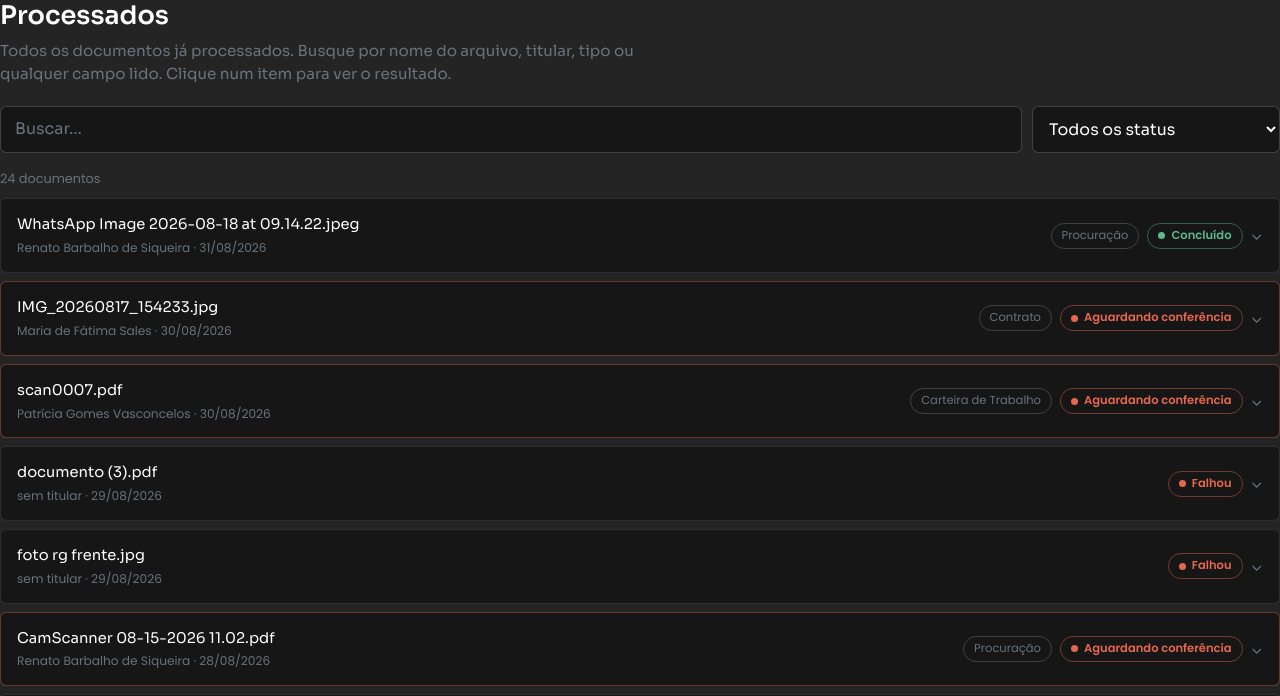
Test case: a busca filtra a lista
Expected: the text "24 documentos" is shown, [0,170,100,187]
Type "holerite" into the search field named "Buscar documentos" at (511, 129), box [0,106,1022,153]
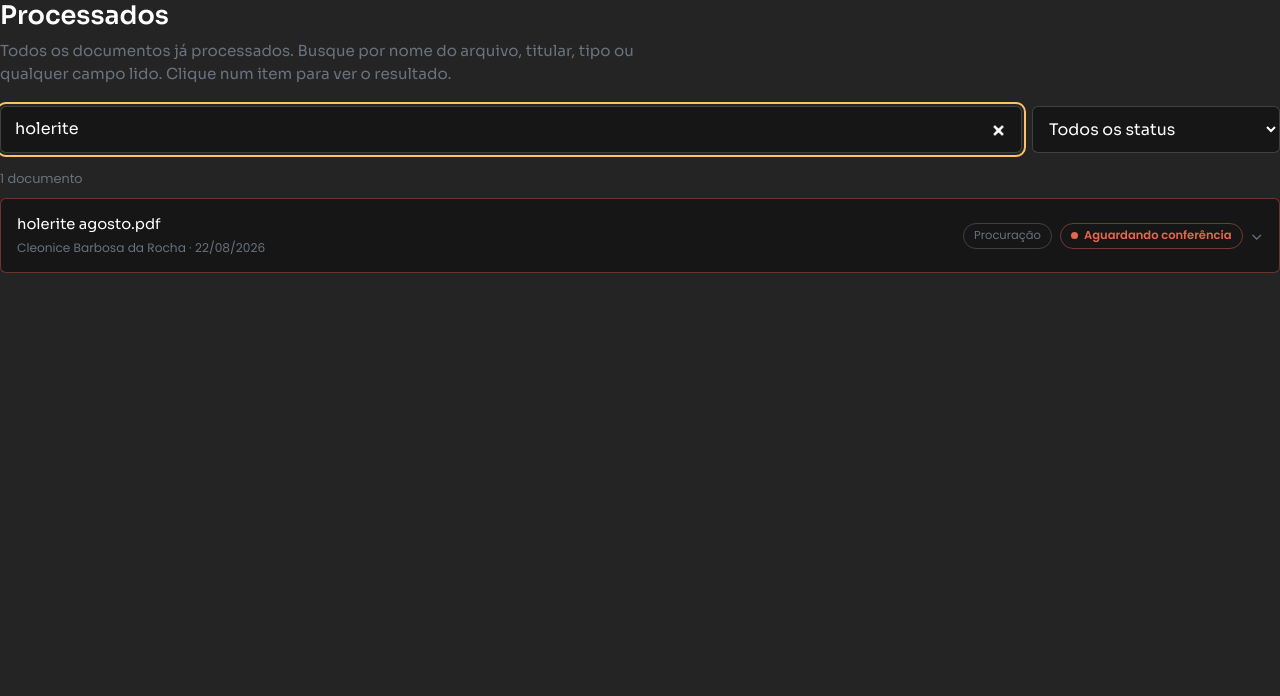
Expected: the text "1 documento" is shown, [0,170,82,187]
Expected: the text "holerite agosto.pdf" is shown, [17,216,161,234]
